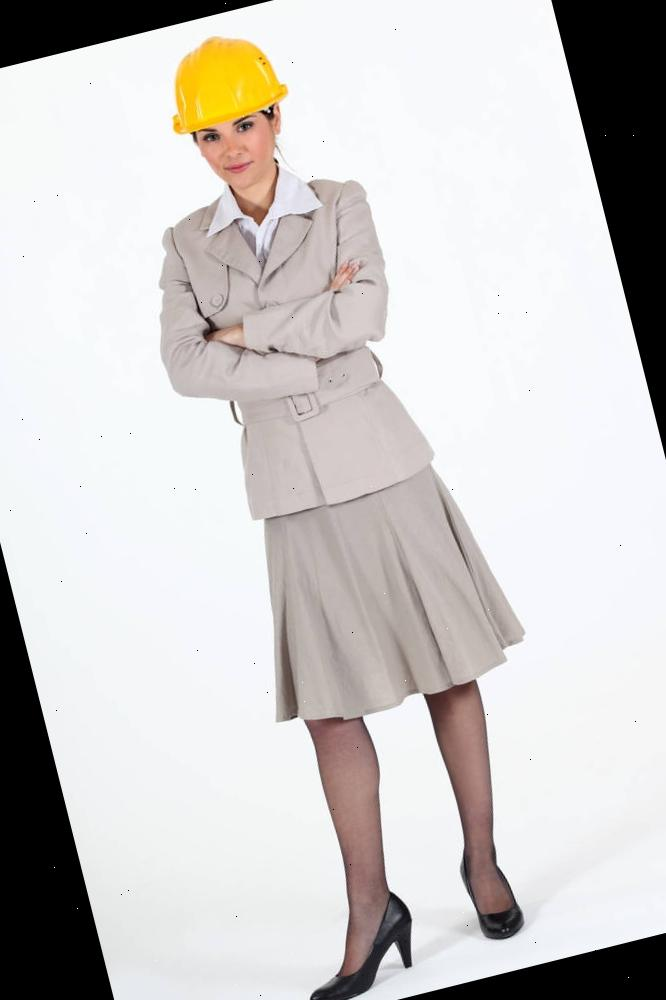helmet: (147, 21, 295, 150)
no_wear: (156, 169, 442, 528)
